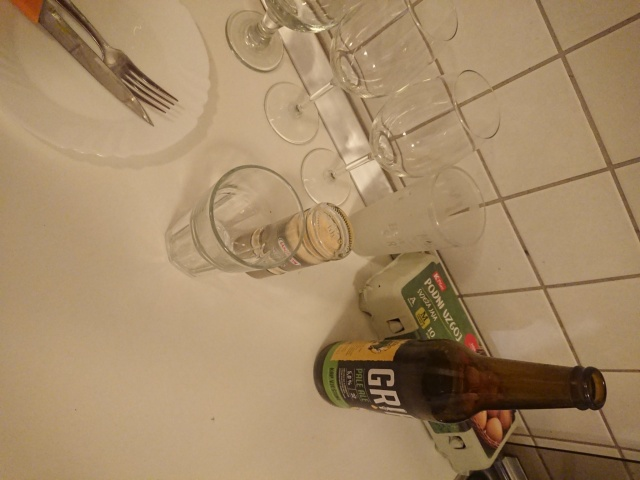Kotanyi Garlic Granules 70g: (231, 199, 357, 281)
